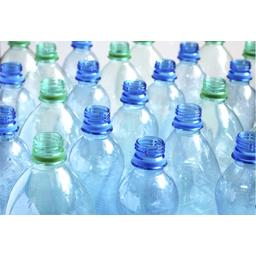plastic: (160, 101, 225, 216), (8, 132, 90, 217), (113, 130, 182, 218), (68, 106, 123, 201), (25, 77, 82, 161), (214, 117, 256, 219)
